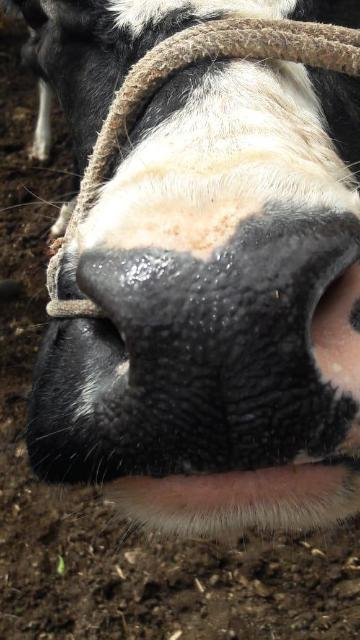Muzzle: (129, 262, 312, 468)
